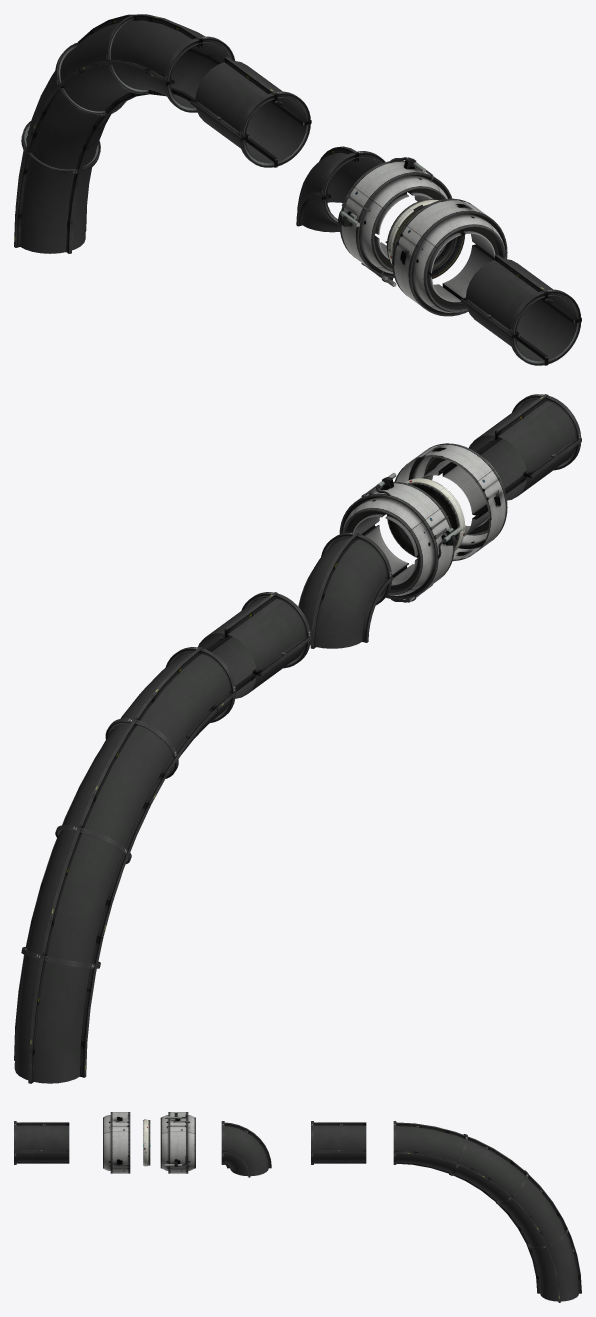
File: VacTubesCollection.fbx
The picture shows the model from 3 angles, top to bottom: view 1: azimuth 30°, elevation 25°; view 2: azimuth 150°, elevation 25°; view 3: azimuth 270°, elevation 25°; orthographic projection. The views are drawn at different scales.
Parts seen in each view (by area): view 1: default_vactube_90deg_06_model.dmx.001, default_vactube_128_straight_model.dmx.002, default_vactube_128_straight_model.dmx.001, default_vacum_entrance_a_model.dmx, default_vacum_flange_a_model.dmx.001, default_vactube_90deg_01_model.dmx, default_vactube_connector_model.dmx; view 2: default_vactube_90deg_06_model.dmx.001, default_vactube_90deg_01_model.dmx, default_vacum_flange_a_model.dmx.001, default_vactube_128_straight_model.dmx.001, default_vactube_128_straight_model.dmx.002, default_vacum_entrance_a_model.dmx, default_vactube_connector_model.dmx; view 3: default_vactube_90deg_06_model.dmx.001, default_vactube_128_straight_model.dmx.001, default_vactube_128_straight_model.dmx.002, default_vacum_flange_a_model.dmx.001, default_vactube_90deg_01_model.dmx, default_vacum_entrance_a_model.dmx, default_vactube_connector_model.dmx.
Part boxes in pixels (x1,y1,x2,y2): default_vactube_90deg_06_model.dmx.001: [14, 14, 235, 253]; default_vactube_128_straight_model.dmx.002: [190, 56, 311, 167]; default_vactube_128_straight_model.dmx.001: [461, 254, 581, 365]; default_vacum_entrance_a_model.dmx: [392, 198, 507, 316]; default_vacum_flange_a_model.dmx.001: [338, 157, 452, 286]; default_vactube_90deg_01_model.dmx: [296, 146, 385, 232]; default_vactube_connector_model.dmx: [386, 199, 465, 279]; default_vactube_90deg_06_model.dmx.001: [14, 647, 236, 1083]; default_vactube_90deg_01_model.dmx: [298, 532, 392, 648]; default_vacum_flange_a_model.dmx.001: [339, 473, 462, 602]; default_vactube_128_straight_model.dmx.001: [469, 394, 581, 500]; default_vactube_128_straight_model.dmx.002: [198, 592, 311, 698]; default_vacum_entrance_a_model.dmx: [394, 443, 507, 561]; default_vactube_connector_model.dmx: [386, 478, 465, 557]; default_vactube_90deg_06_model.dmx.001: [393, 1121, 581, 1302]; default_vactube_128_straight_model.dmx.001: [14, 1121, 69, 1164]; default_vactube_128_straight_model.dmx.002: [311, 1121, 366, 1164]; default_vacum_flange_a_model.dmx.001: [160, 1112, 195, 1173]; default_vactube_90deg_01_model.dmx: [221, 1121, 271, 1177]; default_vacum_entrance_a_model.dmx: [103, 1112, 130, 1173]; default_vactube_connector_model.dmx: [143, 1119, 150, 1166].
Size of the model in its own units: 313 by 888 by 2503.
10 materials, 10 textured.
